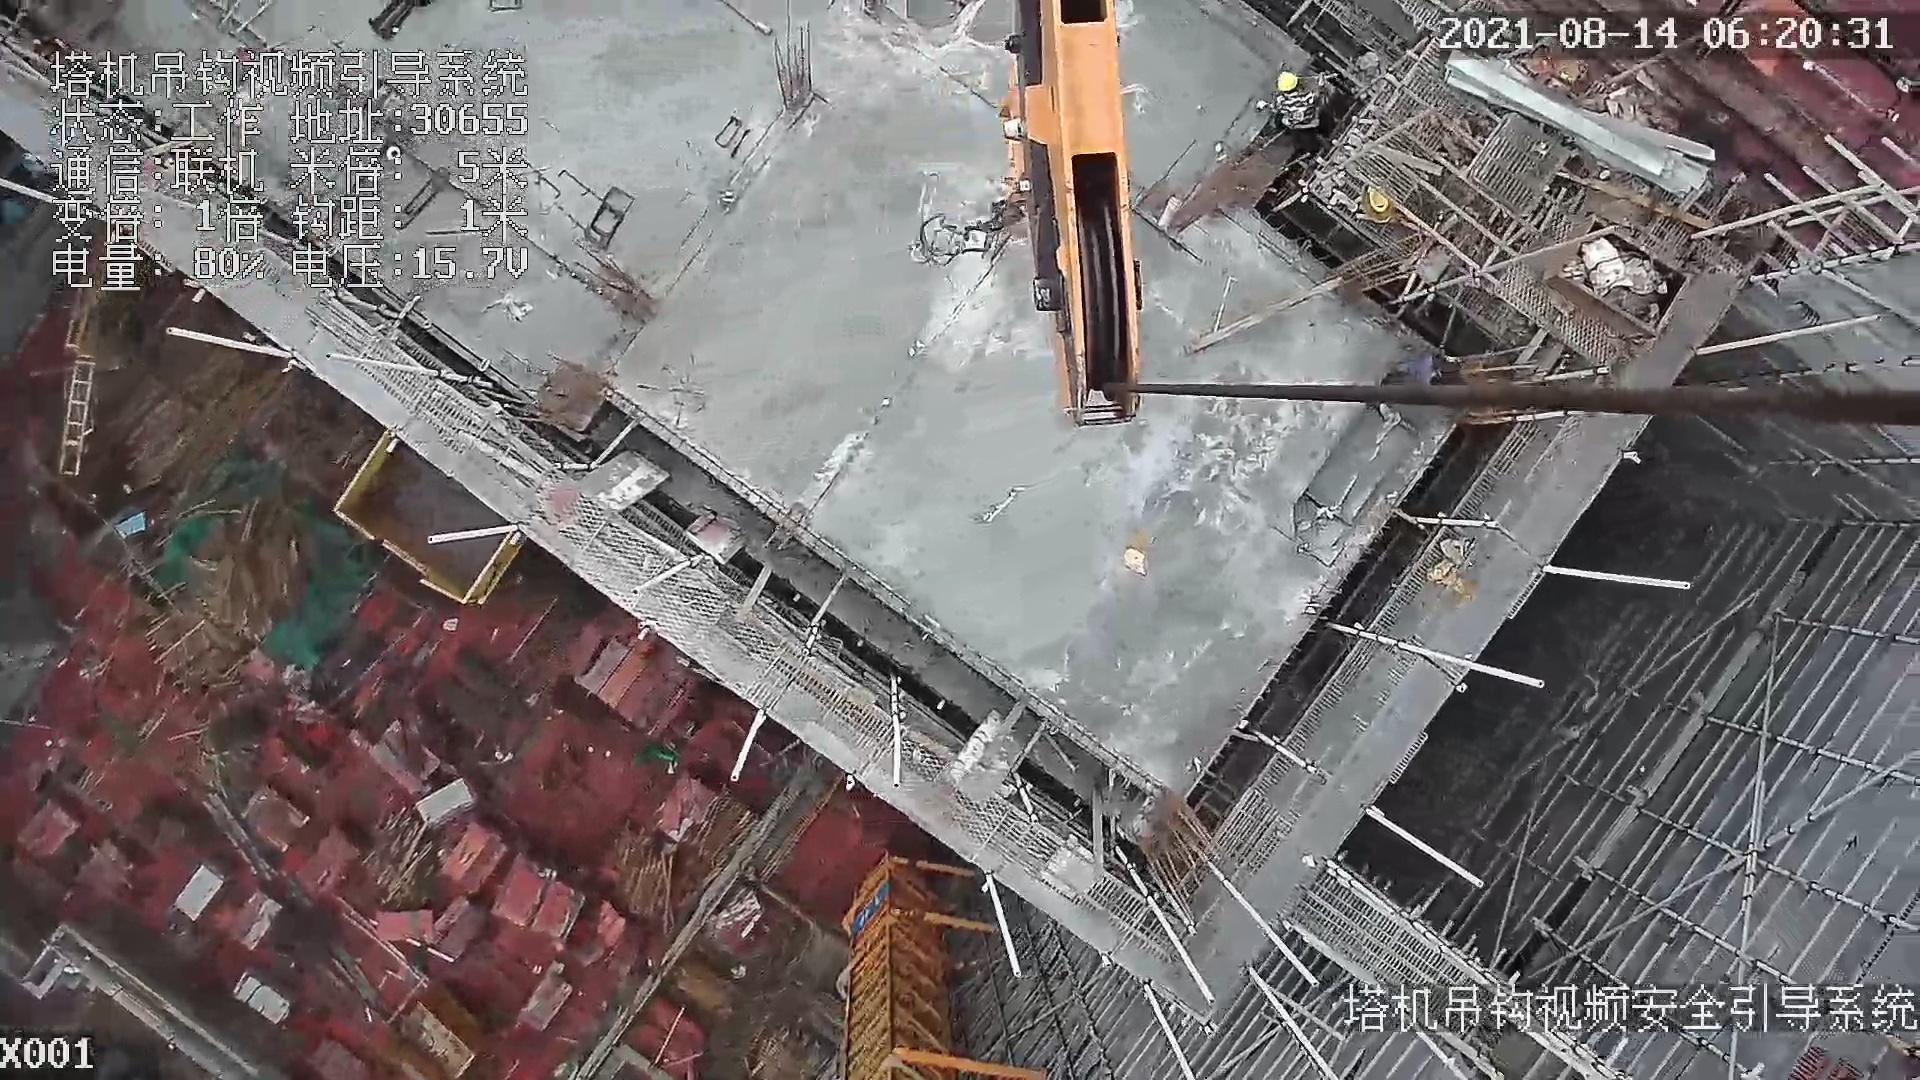hook: (976, 4, 1151, 429)
